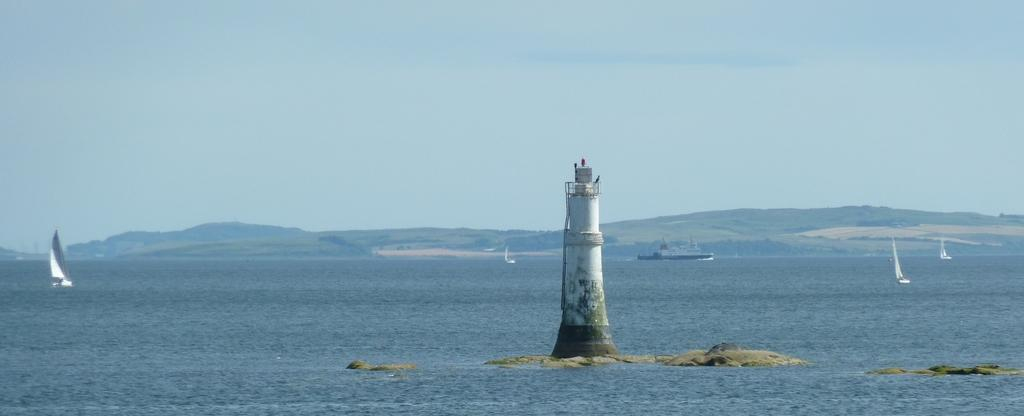PassengerShip: (636, 236, 716, 262)
